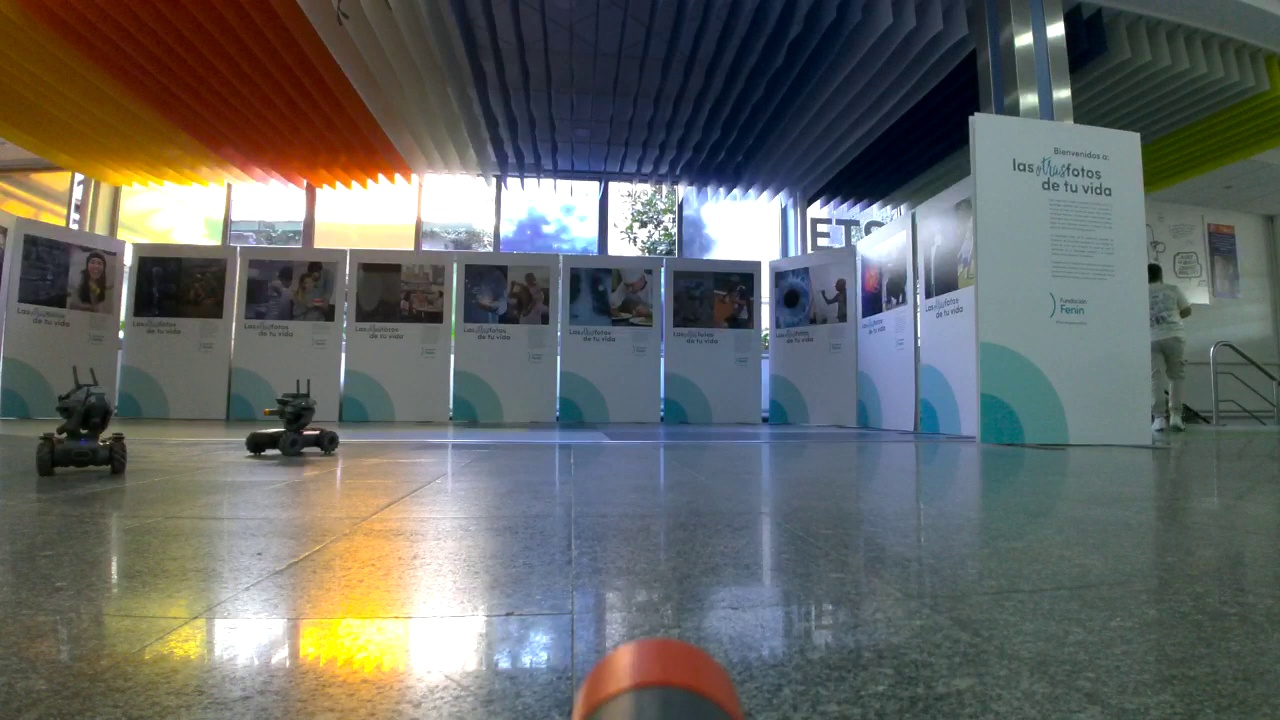robot: (31, 383, 128, 475), (247, 392, 338, 462)
